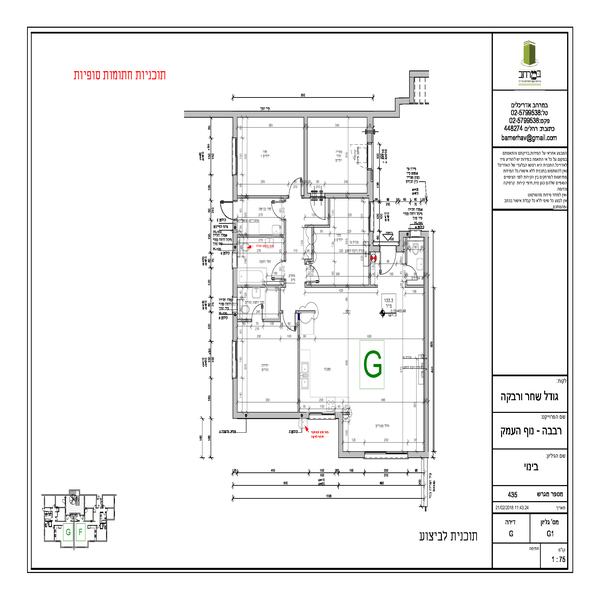door: (377, 241, 397, 274), (213, 200, 244, 219), (305, 198, 329, 221), (267, 198, 287, 224), (304, 260, 325, 284), (398, 260, 419, 284), (287, 175, 307, 197), (280, 312, 300, 334), (248, 296, 264, 322), (270, 258, 285, 279)
room: (296, 283, 441, 463), (227, 278, 304, 424), (303, 104, 377, 208), (229, 111, 312, 201)
wall: (422, 233, 433, 464), (185, 109, 402, 120), (229, 410, 311, 419), (325, 190, 378, 202), (334, 409, 345, 462), (306, 283, 376, 291), (236, 194, 289, 204), (331, 449, 366, 464), (303, 123, 310, 197), (237, 232, 285, 239), (230, 264, 238, 297), (233, 379, 237, 415), (233, 314, 237, 336)
window: (229, 335, 247, 376), (230, 135, 245, 181)
